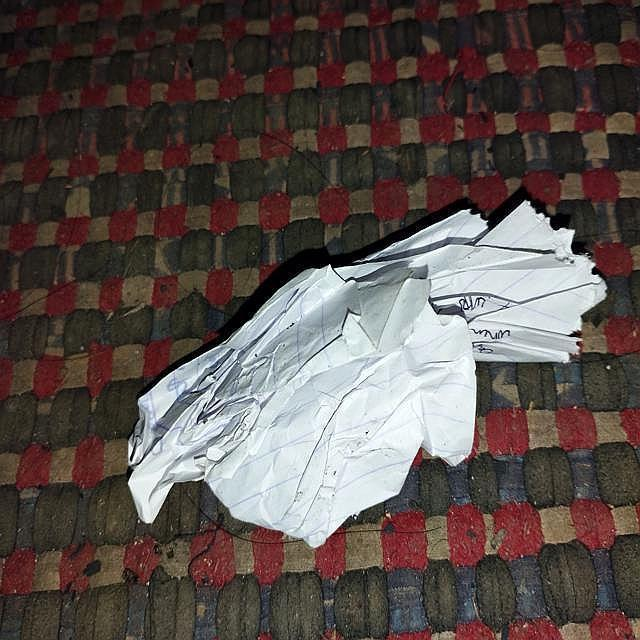Biodegradable: (52, 158, 640, 606)
